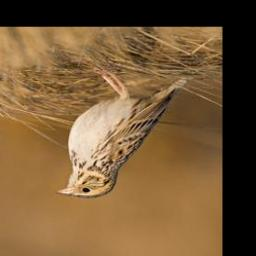Sparrow: (54, 69, 190, 199)
